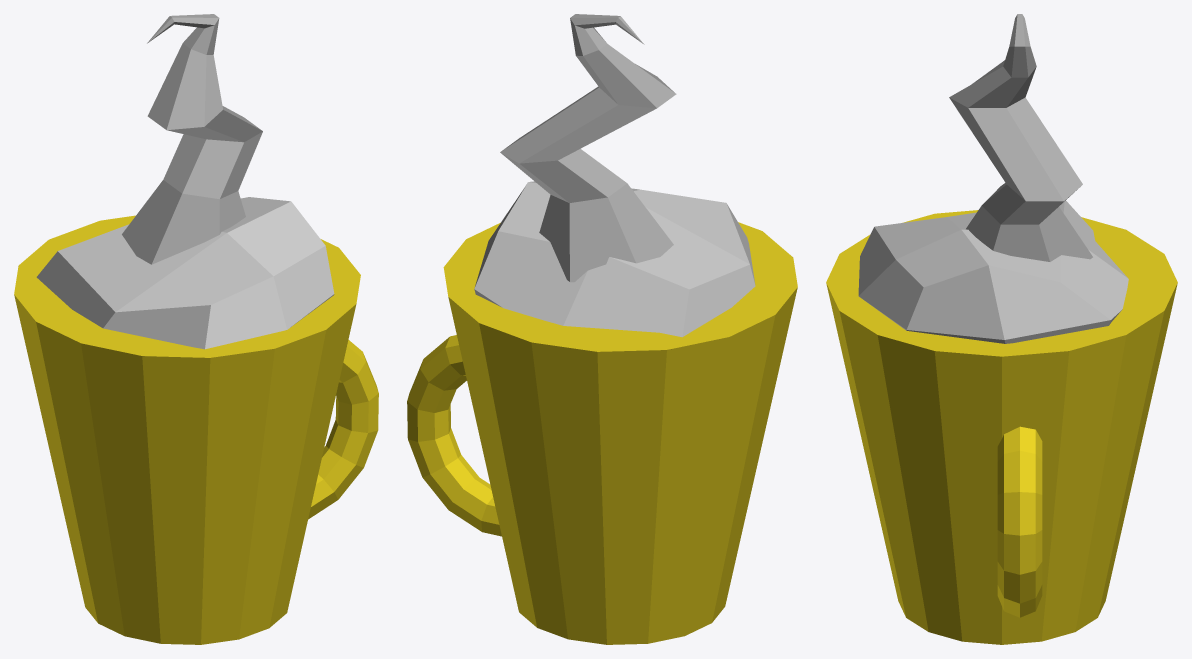
File: CofeePiece.fbx
3 views of the same model, side by side, from view 1: azimuth 30°, elevation 25°; view 2: azimuth 150°, elevation 25°; view 3: azimuth 270°, elevation 25° (orthographic). The views are drawn at different scales.
Parts seen in each view (by area): view 1: Cylinder.051; view 2: Cylinder.051; view 3: Cylinder.051.
Boxes of the visible parts, x1,y1,x2,y2 form: Cylinder.051: (14,14,378,644); Cylinder.051: (407,14,797,644); Cylinder.051: (826,14,1177,644).
Size of the model in its own units: 231 by 366 by 200.
